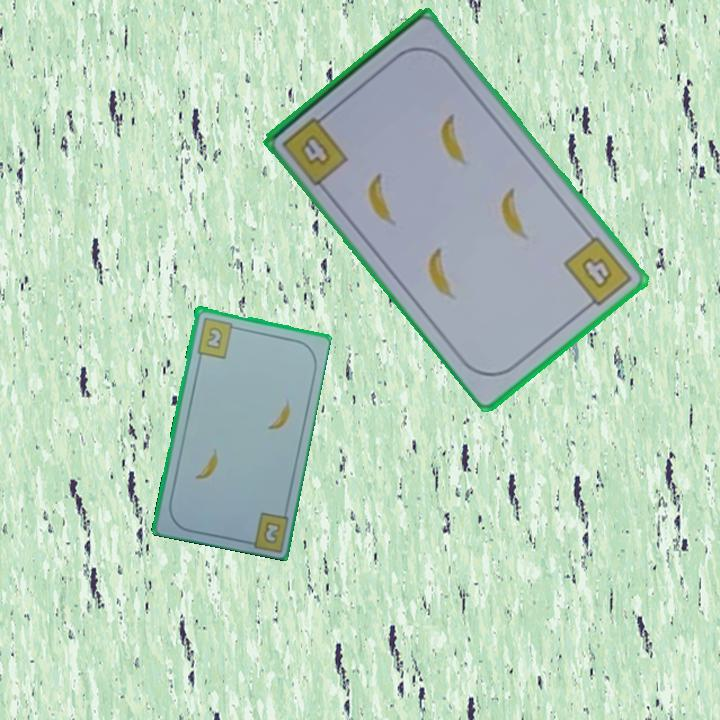2b: (193, 314, 241, 360), (260, 518, 283, 546)
4b: (560, 232, 636, 314), (278, 108, 352, 189)
